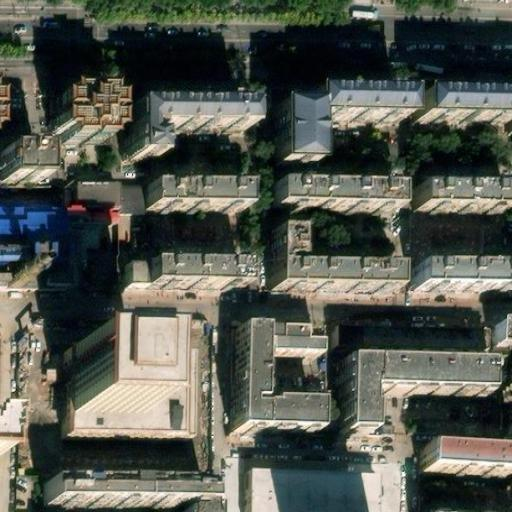building: (51, 364, 190, 458), (349, 378, 493, 454), (241, 337, 320, 455), (270, 221, 395, 281), (127, 111, 243, 170), (42, 479, 205, 511), (245, 474, 375, 512), (68, 366, 138, 433), (273, 174, 395, 198), (146, 266, 244, 295), (310, 90, 413, 117), (48, 96, 107, 143), (141, 182, 239, 210), (425, 92, 512, 123), (417, 450, 512, 476), (273, 106, 311, 167), (416, 253, 512, 277), (416, 174, 507, 198), (64, 185, 130, 218), (0, 148, 34, 181), (216, 457, 236, 511), (422, 500, 488, 512), (125, 267, 146, 294), (331, 330, 356, 349), (500, 340, 512, 362)
